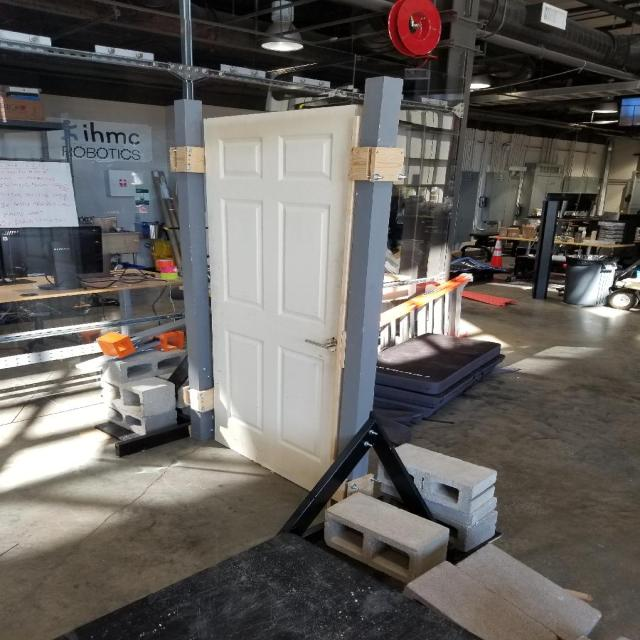doorhandle: (302, 330, 342, 357)
